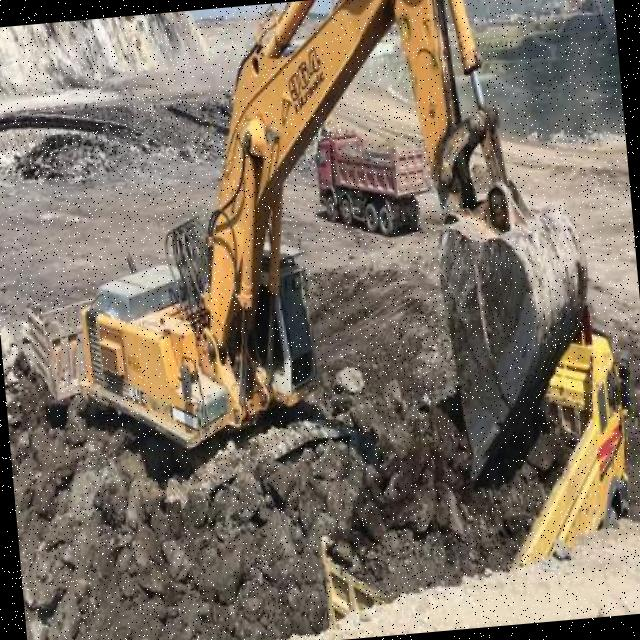Dump Truck: (305, 322, 640, 614), (313, 122, 429, 236), (23, 290, 102, 416)
Excavator: (50, 0, 607, 521)
